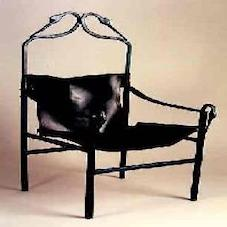chair: (7, 7, 217, 221)
